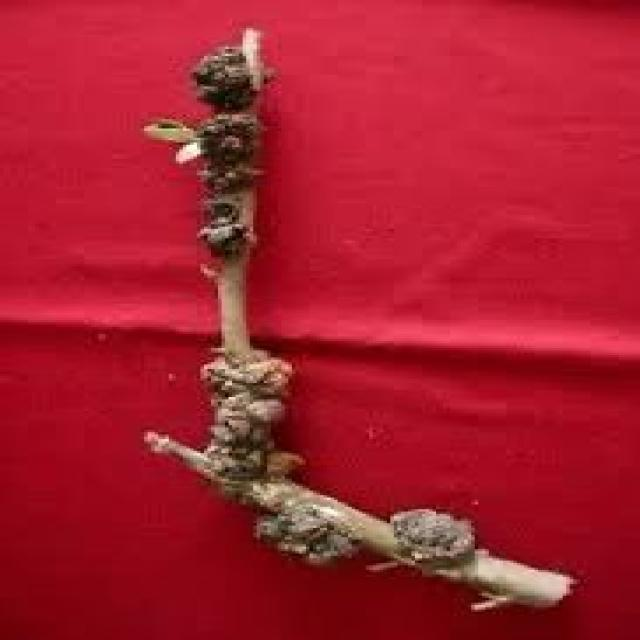Tuberculosis: (180, 28, 474, 572)
